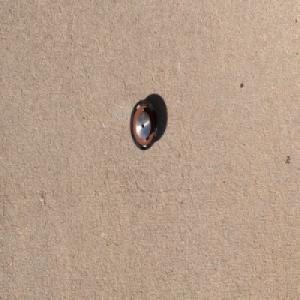FuelCap: (128, 97, 158, 151)
